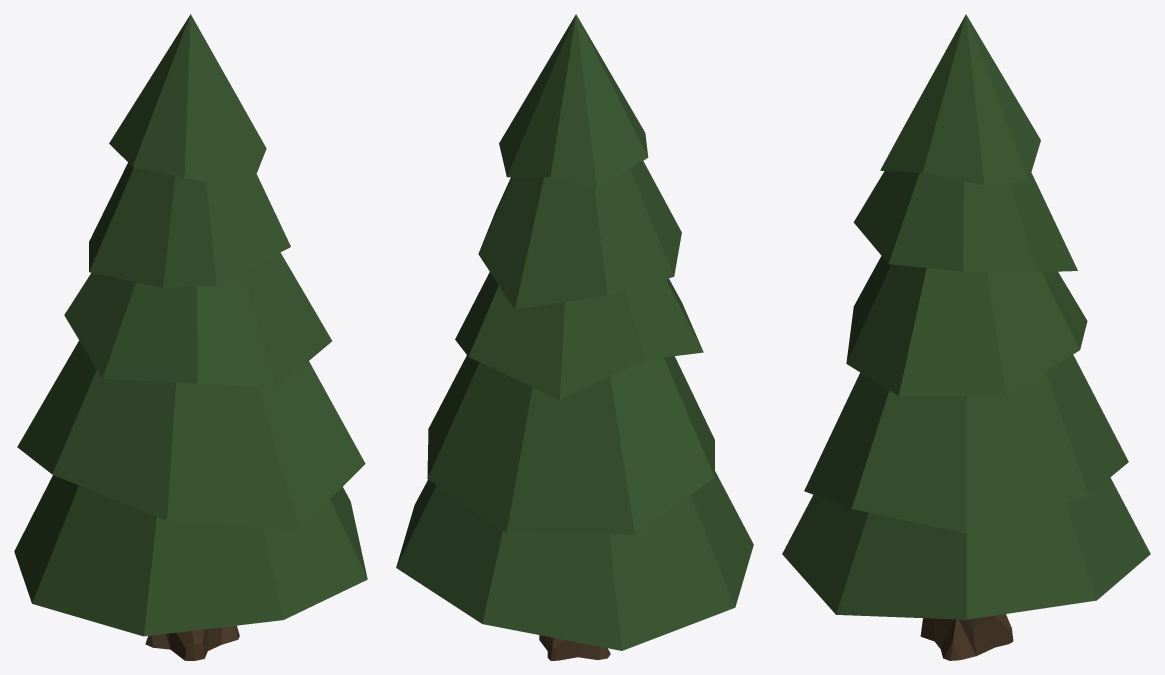
The picture shows the model from 3 angles, left to right: view 1: azimuth 30°, elevation 25°; view 2: azimuth 150°, elevation 25°; view 3: azimuth 270°, elevation 25°; orthographic projection.
Parts seen in each view (by area): view 1: tree conifer.01; view 2: tree conifer.01; view 3: tree conifer.01.
Boxes of the visible parts, x1=… form: tree conifer.01: x1=14, y1=14, x2=367, y2=660; tree conifer.01: x1=396, y1=14, x2=753, y2=660; tree conifer.01: x1=782, y1=14, x2=1150, y2=660.
Bounding box in the file's own units: 4.06 × 7.62 × 4.06.
1 material, 1 textured.
